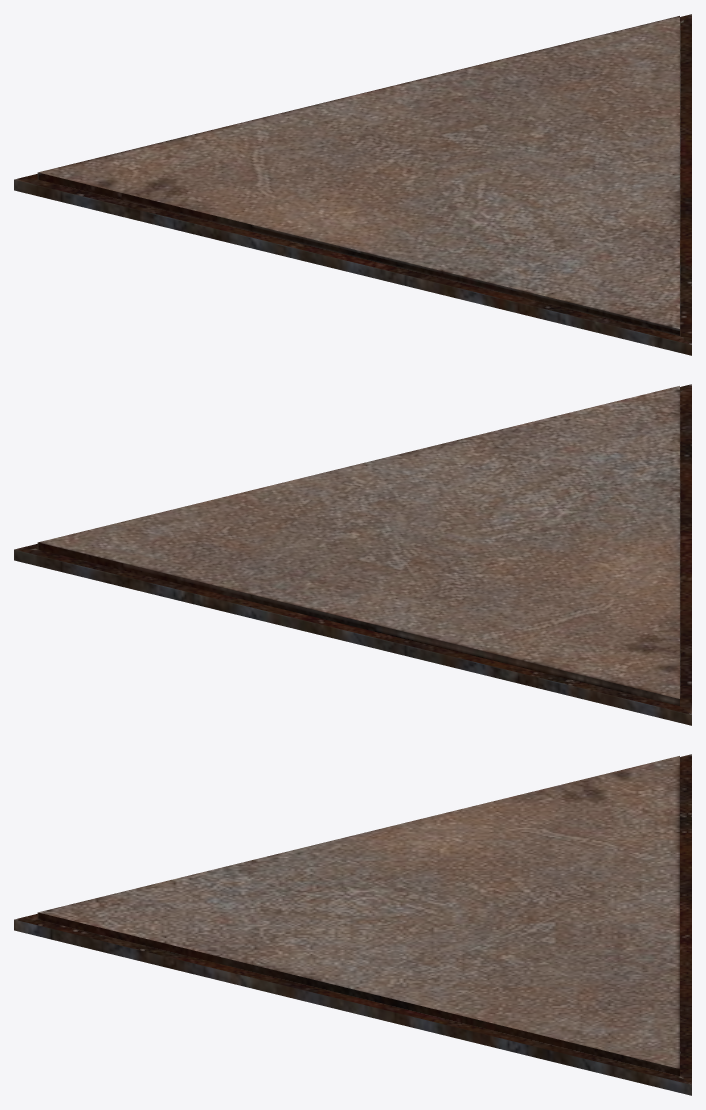
Rendered from metal_foundation_triangle_low_textured.glb.
The picture shows the model from 3 angles, top to bottom: view 1: azimuth 30°, elevation 25°; view 2: azimuth 150°, elevation 25°; view 3: azimuth 270°, elevation 25°; orthographic projection.
Visible parts, largest first — view 1: Circle.001; view 2: Circle.001; view 3: Circle.001.
Boxes of the visible parts, x1,y1,x2,y2 form: Circle.001: [14, 14, 691, 355]; Circle.001: [14, 384, 691, 725]; Circle.001: [14, 754, 691, 1095].
Bounding box in the file's own units: 2 × 0.0508 × 1.73.
1 material, 1 textured.
